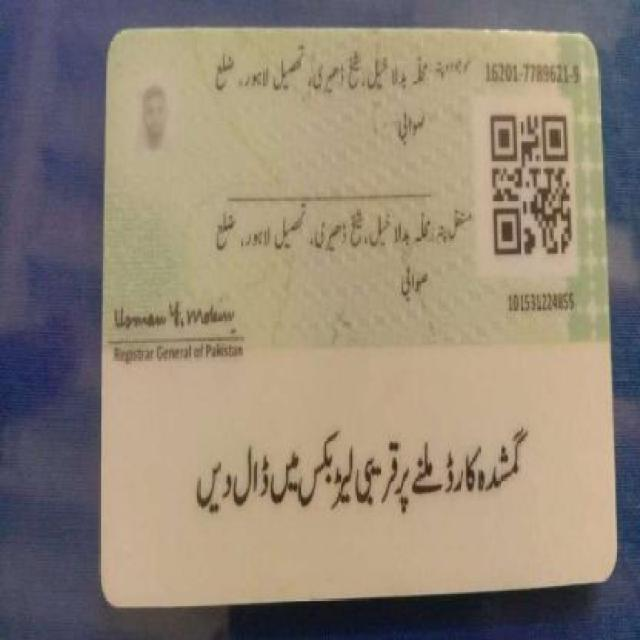Back: (91, 23, 612, 597)
